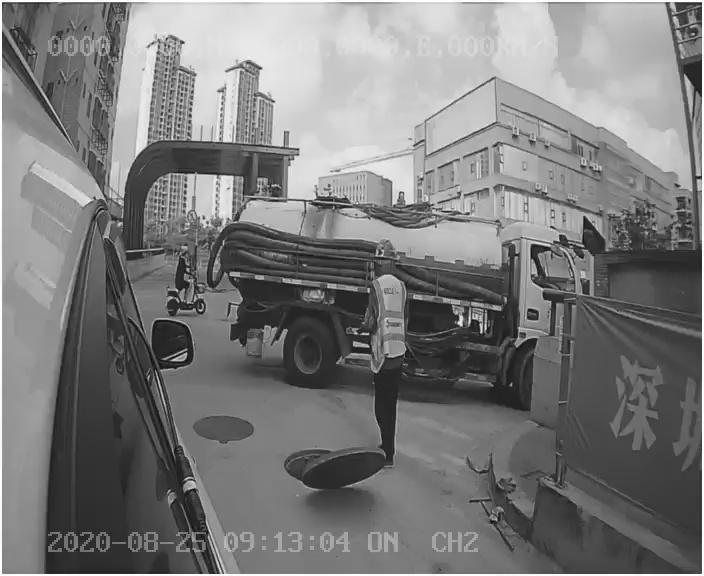person: (360, 243, 417, 470)
